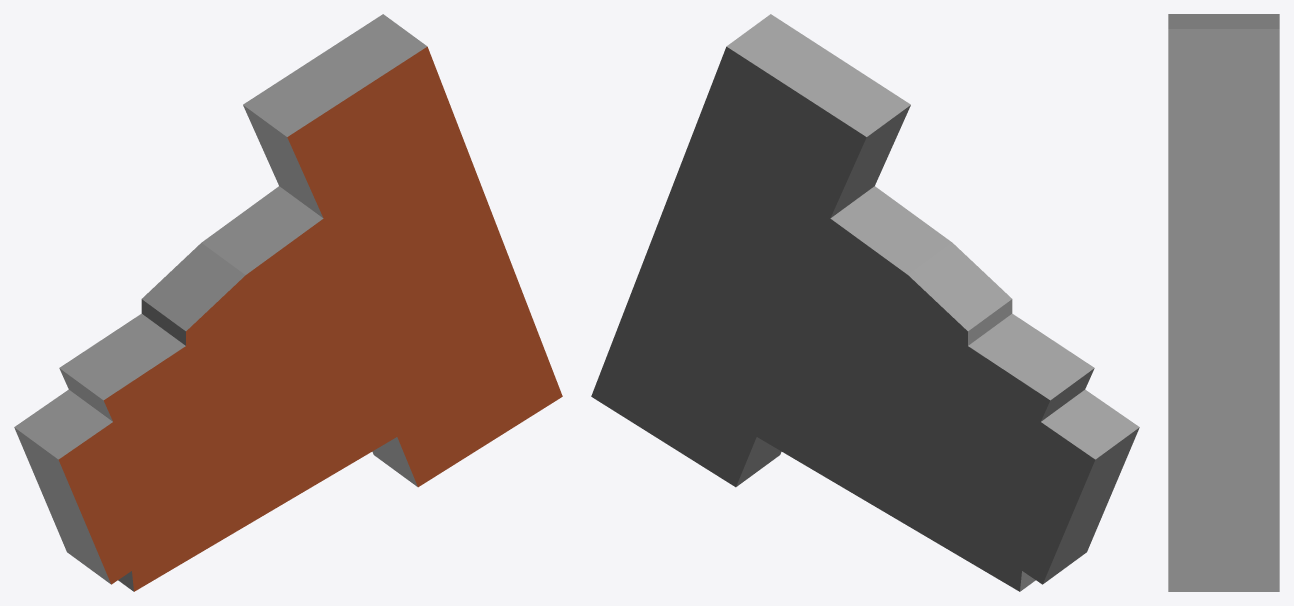
File: construction_6869_assumed_A_Casa_h6m.obj
The picture shows the model from 3 angles, left to right: view 1: azimuth 30°, elevation 25°; view 2: azimuth 150°, elevation 25°; view 3: azimuth 270°, elevation 25°; orthographic projection. The views are drawn at different scales.
Visible parts, largest first — view 1: construction_6869_assumed_A_Casa; view 2: construction_6869_assumed_A_Casa; view 3: construction_6869_assumed_A_Casa.
Part boxes in pixels (x1,y1,x2,y2): construction_6869_assumed_A_Casa: [14, 14, 562, 591]; construction_6869_assumed_A_Casa: [591, 14, 1139, 591]; construction_6869_assumed_A_Casa: [1168, 14, 1279, 591].
Size of the model in its own units: 39.36 by 35.35 by 6.
